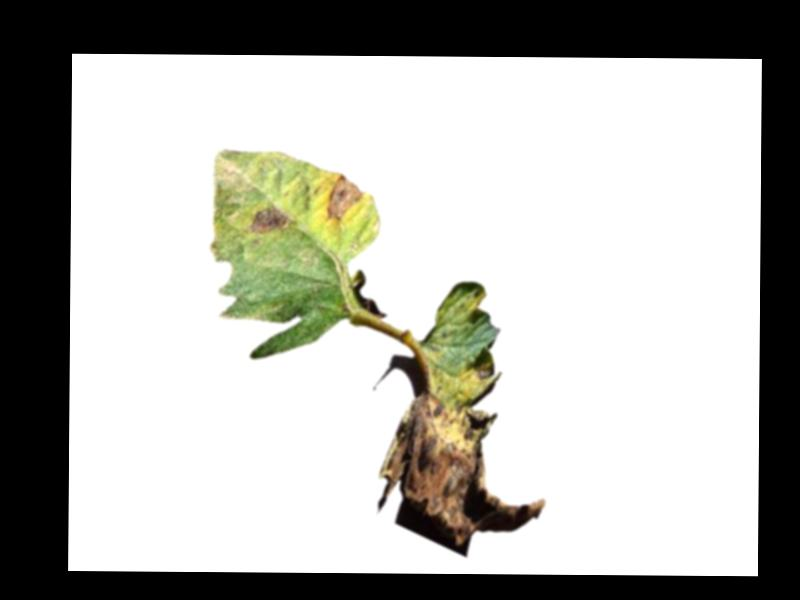Early_blight: (376, 360, 550, 547), (327, 174, 364, 220), (251, 205, 292, 234)
